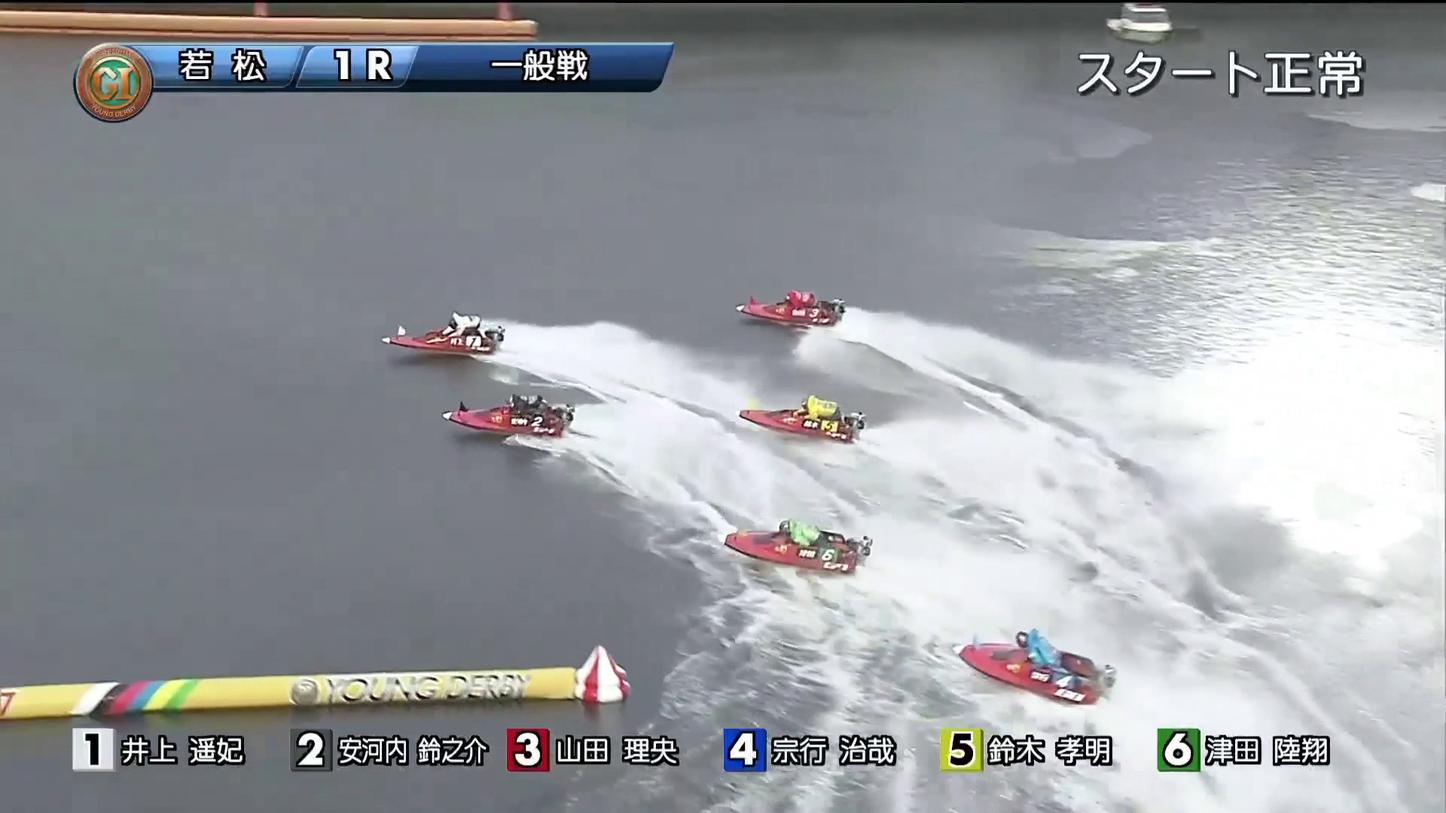１号艇: (398, 277, 468, 330)
２号艇: (425, 370, 554, 431)
３号艇: (757, 259, 855, 315)
４号艇: (737, 499, 871, 564)
５号艇: (989, 640, 1113, 695)
６号艇: (741, 357, 841, 437)
